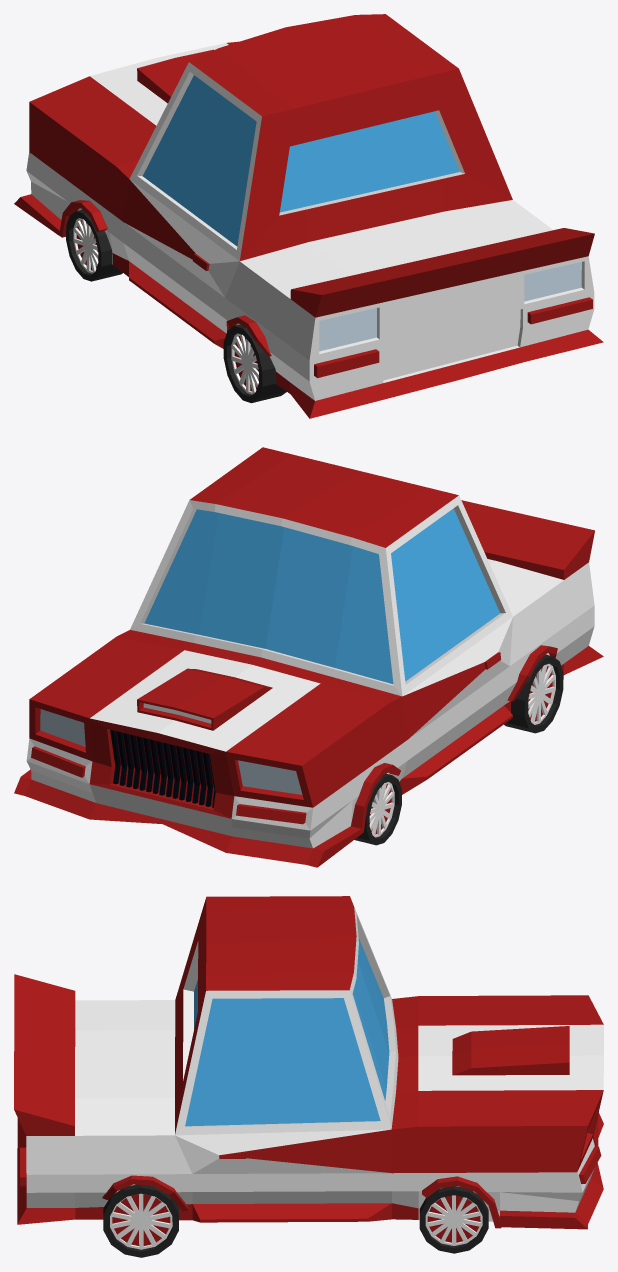
The model's file is car.obj.
The picture shows the model from 3 angles, top to bottom: view 1: azimuth 30°, elevation 25°; view 2: azimuth 150°, elevation 25°; view 3: azimuth 270°, elevation 25°; orthographic projection. The views are drawn at different scales.
Visible parts, largest first — view 1: group1 Car body, group1 Car backlight, group1 Car wheel_1, group1 Car wheel1_1, group1 Car front_fender, rear_fender group1 Car; view 2: group1 Car body, group1 Car lattice_1, group1 Car wheel_1, group1 Car headlight, group1 Car wheel1_1, group1 Car front_fender, rear_fender group1 Car; view 3: group1 Car body, group1 Car wheel_1, group1 Car wheel1_1, group1 Car front_fender, rear_fender group1 Car.
Boxes of the visible parts, left/top/right/bottom form: group1 Car body: left=14, top=14, right=603, bottom=418; group1 Car backlight: left=319, top=262, right=581, bottom=351; group1 Car wheel_1: left=223, top=324, right=286, bottom=403; group1 Car wheel1_1: left=66, top=209, right=122, bottom=281; group1 Car front_fender: left=59, top=200, right=107, bottom=237; rear_fender group1 Car: left=226, top=315, right=271, bottom=356; group1 Car body: left=14, top=447, right=603, bottom=867; group1 Car lattice_1: left=110, top=729, right=215, bottom=807; group1 Car wheel_1: left=504, top=654, right=563, bottom=733; group1 Car headlight: left=40, top=709, right=302, bottom=794; group1 Car wheel1_1: left=354, top=773, right=401, bottom=845; group1 Car front_fender: left=351, top=763, right=400, bottom=833; rear_fender group1 Car: left=507, top=645, right=557, bottom=701; group1 Car body: left=14, top=896, right=603, bottom=1229; group1 Car wheel_1: left=103, top=1184, right=178, bottom=1257; group1 Car wheel1_1: left=419, top=1186, right=488, bottom=1253; group1 Car front_fender: left=422, top=1176, right=501, bottom=1228; rear_fender group1 Car: left=102, top=1175, right=188, bottom=1211.
Size of the model in its own units: 4.73 by 3.8 by 8.12.
